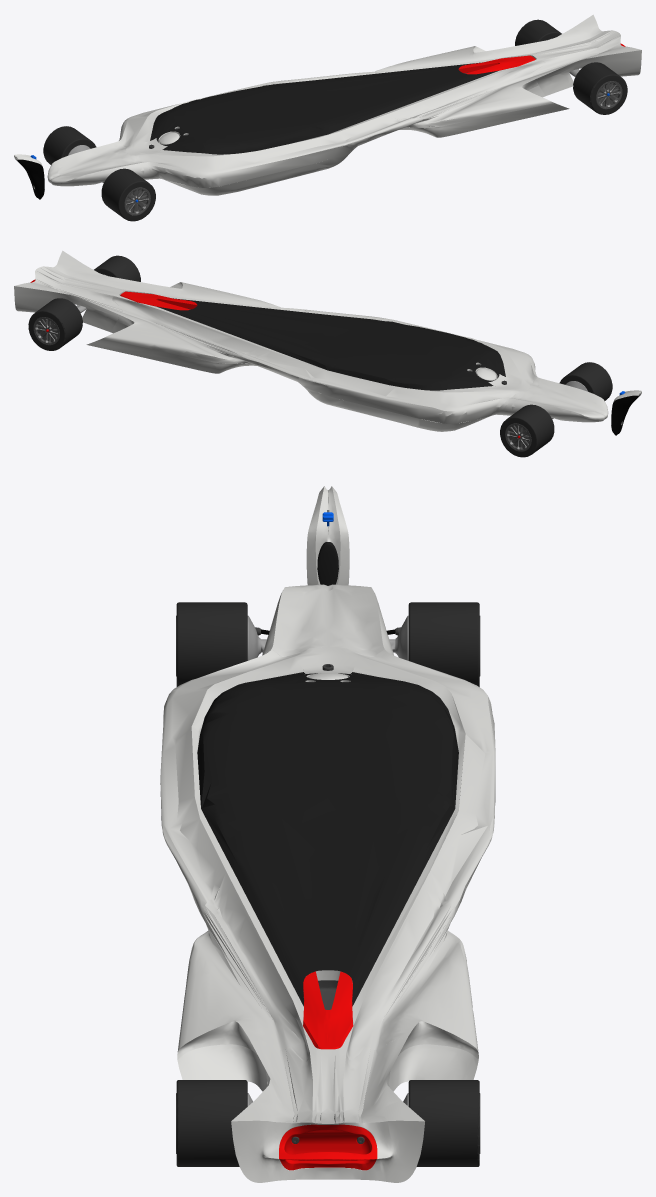
3 renders of one model, top to bottom at view 1: azimuth 30°, elevation 25°; view 2: azimuth 150°, elevation 25°; view 3: azimuth 270°, elevation 25°, orthographic. The views are drawn at different scales.
Parts seen in each view (by area): view 1: Longboard MK3 v14; view 2: Longboard MK3 v14; view 3: Longboard MK3 v14.
Part boxes in pixels (x1=…): Longboard MK3 v14: x1=14, y1=14, x2=641, y2=221; Longboard MK3 v14: x1=14, y1=250, x2=641, y2=457; Longboard MK3 v14: x1=160, y1=486, x2=495, y2=1182.
Bounding box in the file's own units: 7.58 × 0.8004 × 1.8.
